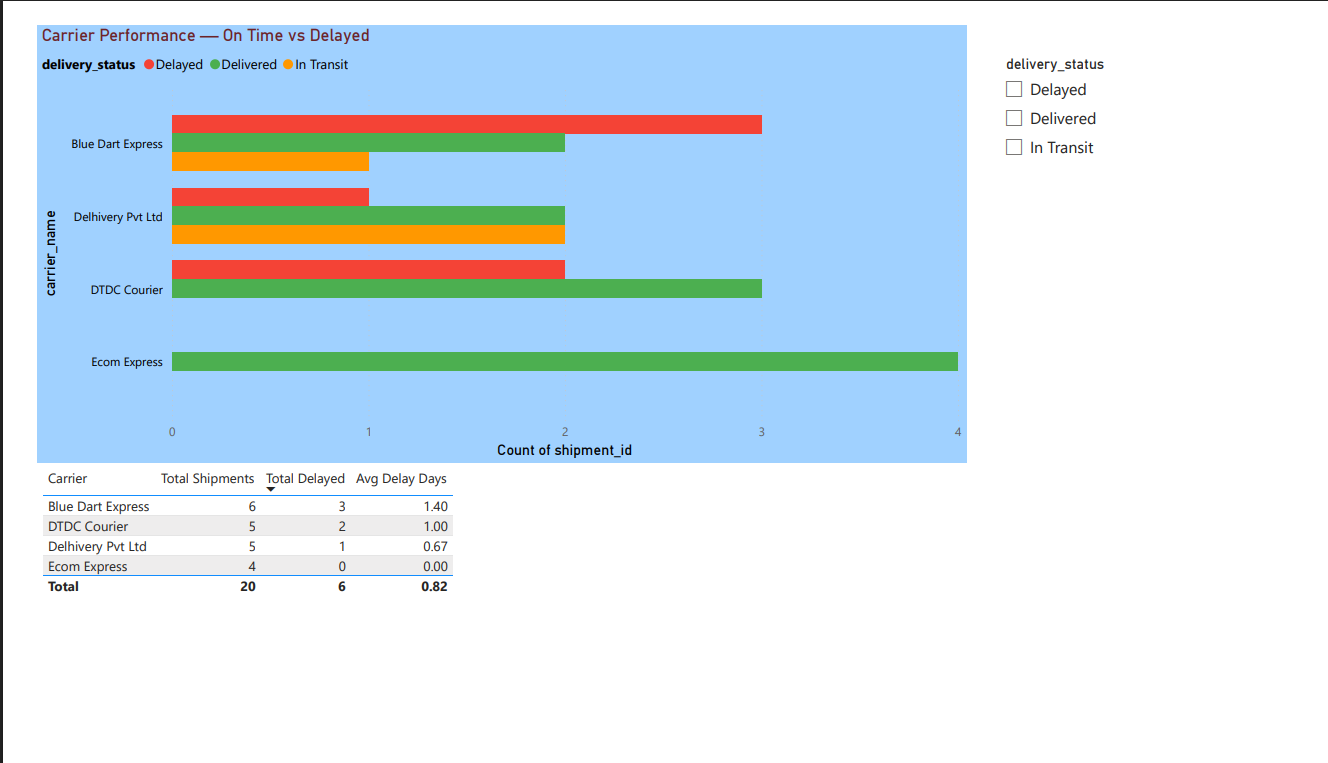

Layout of this report page (visuals, bound fields, positions):
{"tool":"powerbi","page":{"name":"Carrier Analysis","canvas":[1280,720],"ordinal":1},"visuals":[{"type":"clusteredBarChart","title":"Carrier Performance — On Time vs Delayed","fields":{"Category":["logistics_db carriers.carrier_name"],"Y":["CountNonNull(logistics_db shipments.shipment_id)"],"Series":["logistics_db shipments.delivery_status"]},"box":[10.2,0,929.9,438.1],"z":0},{"type":"tableEx","fields":{"Values":["logistics_db carriers.carrier_name","logistics_db shipments.shipment_id","Sum(logistics_db shipments.Is Delayed)","Avg(logistics_db shipments.Delay Days)"]},"box":[10.2,438.1,1269.8,281.6],"z":1000},{"type":"slicer","fields":{"Values":["logistics_db shipments.delivery_status"]},"box":[966,25.9,293.6,128.7],"z":2000}]}

Visuals, with their boxes in screenshot pixels (x1, y1, x2, y2), scaled from the page's 1280x720 canvas onto the 1328x763 screenshot:
"Carrier Performance — On Time vs Delayed" clusteredBarChart: <bbox>11, 0, 975, 464</bbox>
tableEx - logistics_db carriers.carrier_name x logistics_db shipments.shipment_id: <bbox>11, 464, 1327, 762</bbox>
slicer - logistics_db shipments.delivery_status: <bbox>1002, 27, 1307, 164</bbox>
